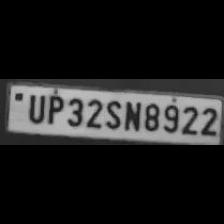2: (178, 102, 198, 136), (197, 103, 217, 137), (84, 96, 102, 130)
3: (63, 94, 83, 128)
8: (140, 100, 160, 132)
9: (160, 100, 178, 134)
N: (122, 98, 142, 132)
P: (44, 92, 64, 124)
S: (102, 97, 120, 130)
U: (23, 90, 44, 124)
